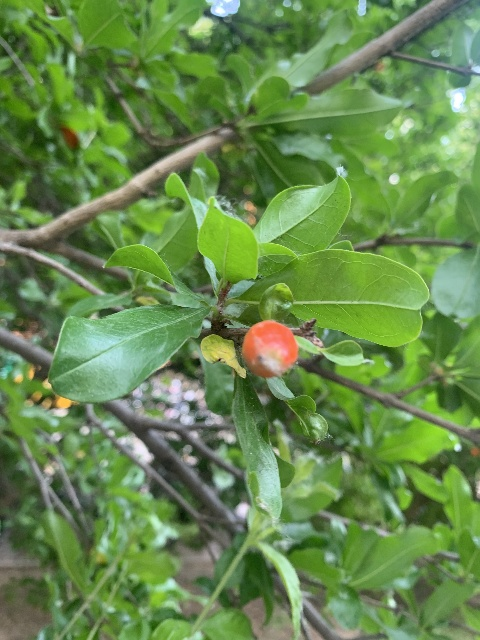bud: (241, 320, 299, 378)
